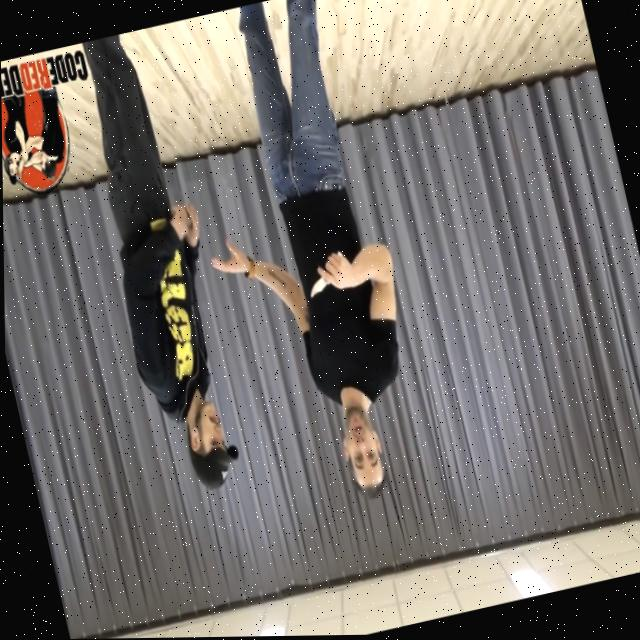knife: (305, 276, 331, 300)
